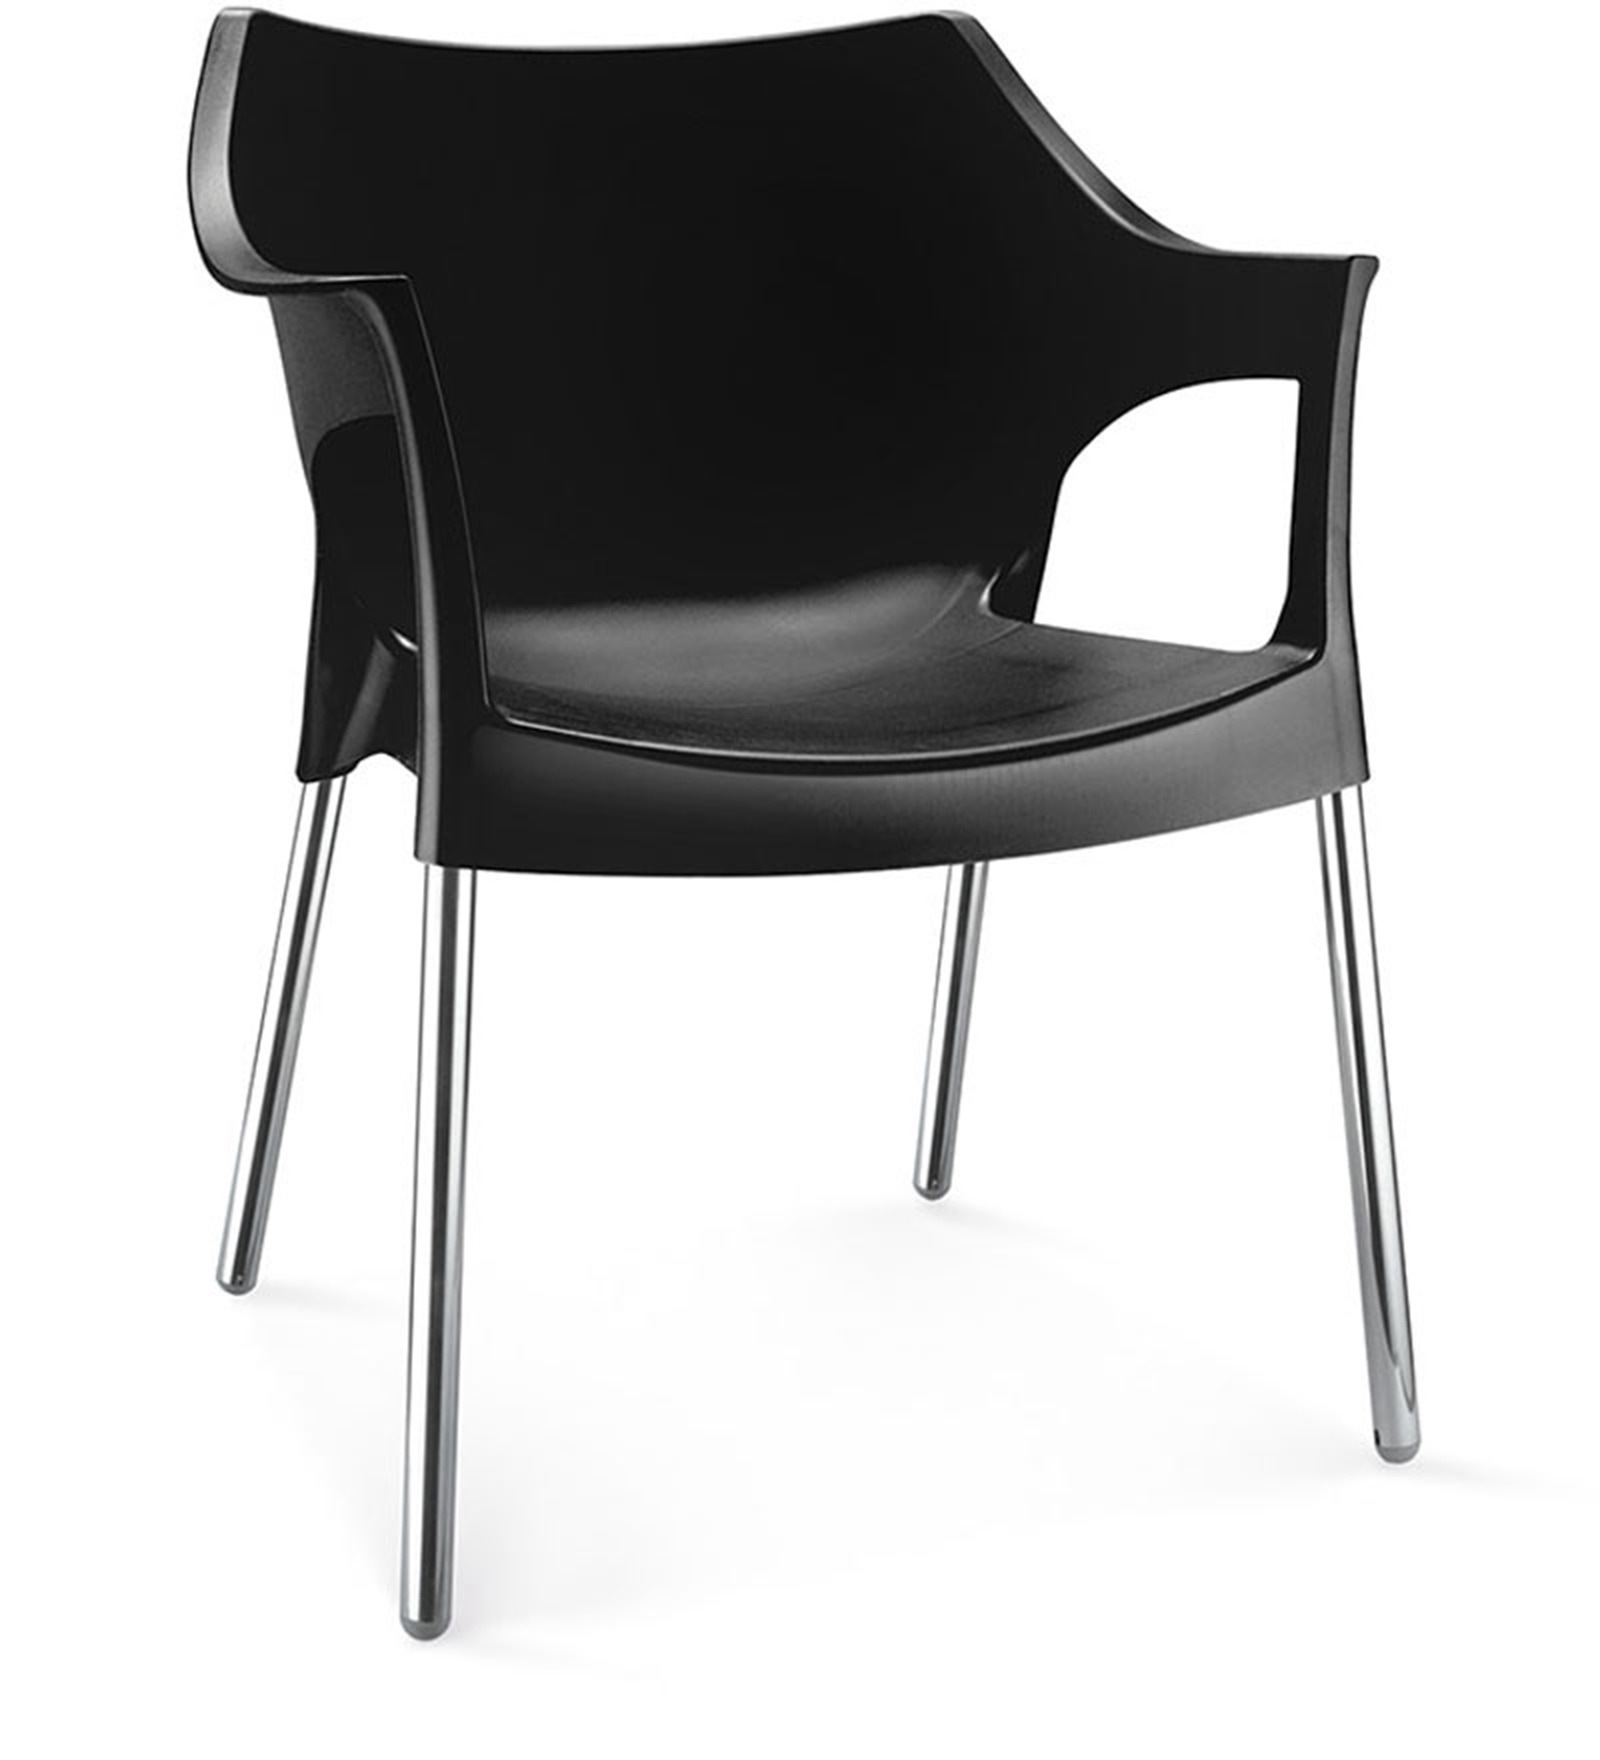Novella Chair in Black Colour by Nilkamal: (167, 5, 1428, 1645)
